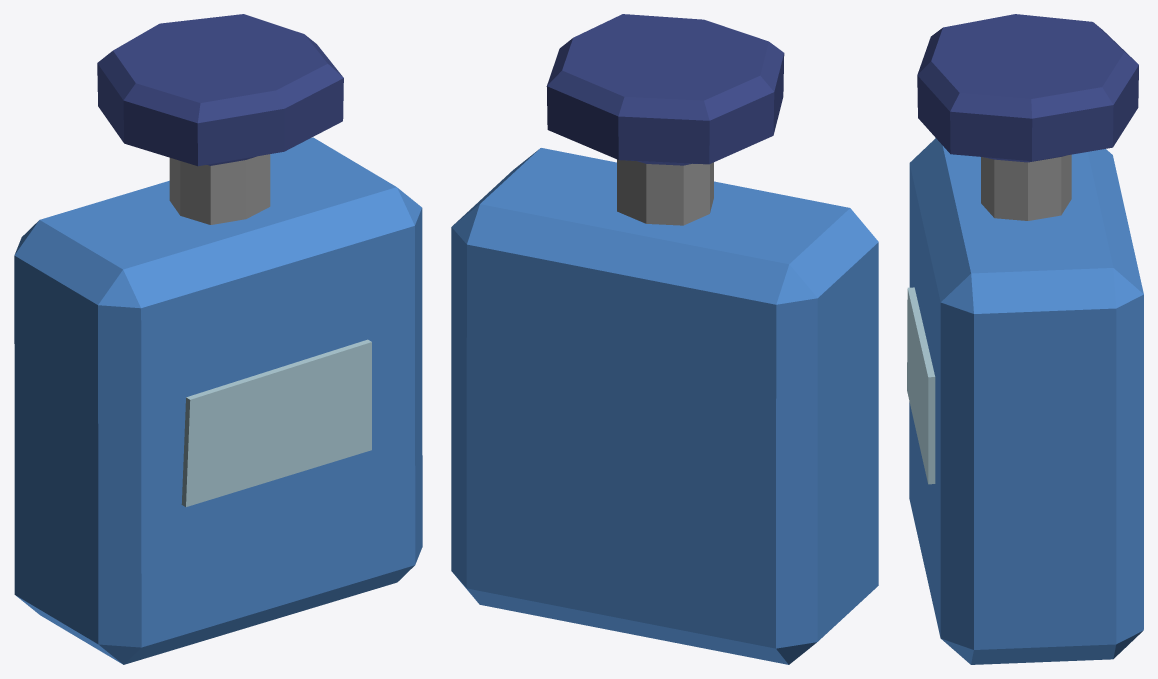
Rendered from Perfume_5.fbx.
3 views of the same model, side by side, from view 1: azimuth 30°, elevation 25°; view 2: azimuth 150°, elevation 25°; view 3: azimuth 270°, elevation 25° (orthographic). The views are drawn at different scales.
Parts seen in each view (by area): view 1: Perfume_5; view 2: Perfume_5; view 3: Perfume_5.
Boxes of the visible parts, box(x1,y1,x2,y2) form: Perfume_5: box(14, 14, 422, 664); Perfume_5: box(451, 14, 878, 664); Perfume_5: box(907, 14, 1143, 664).
Size of the model in its own units: 15.89 by 9.29 by 23.18.
